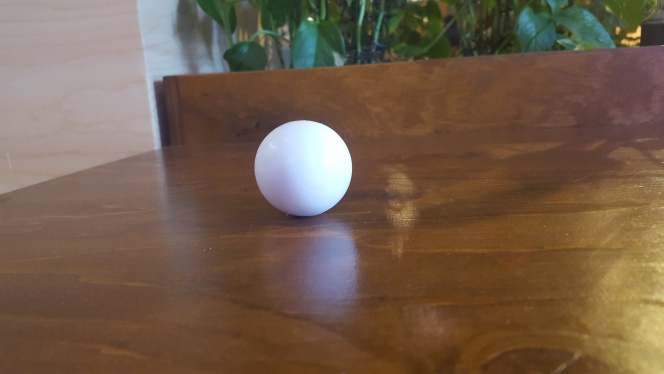egg: (252, 119, 354, 221)
